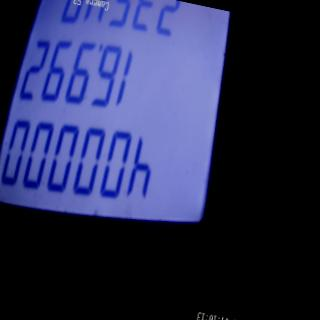screen: (0, 0, 255, 267)
